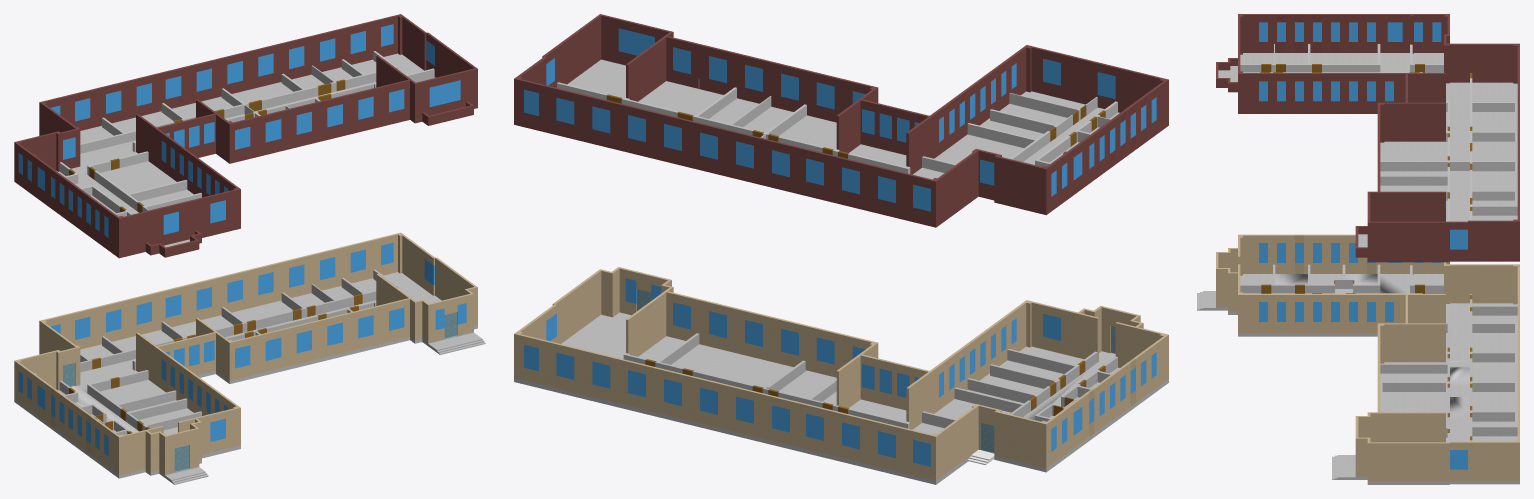
File: Water_Quality_Building_expansion.glb
3 views of the same model, side by side, from view 1: azimuth 30°, elevation 25°; view 2: azimuth 150°, elevation 25°; view 3: azimuth 270°, elevation 25° (orthographic). The views are drawn at different scales.
Parts seen in each view (by area): view 1: Floor1, Floor2; view 2: Floor1, Floor2; view 3: Floor1, Floor2.
Part boxes in pixels (x1,y1,x2,y2): Floor1: (14,232,485,484); Floor2: (14,14,477,258); Floor1: (514,267,1168,484); Floor2: (514,14,1168,227); Floor1: (1197,234,1519,484); Floor2: (1216,14,1519,262).
Size of the model in its own units: 49.42 by 29 by 32.34.
Materials: 7 (6 with a texture image).
